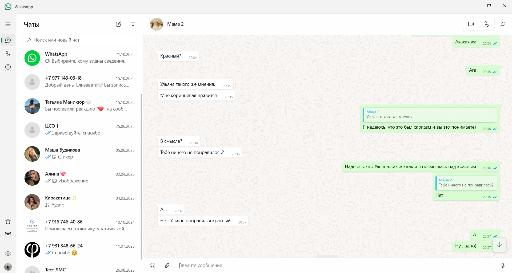whatsapp: (1, 0, 512, 273)
